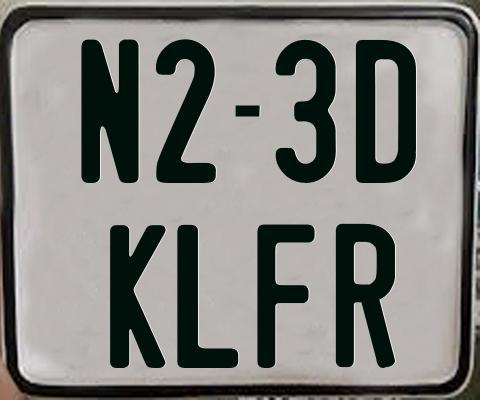2: (154, 36, 217, 180)
3: (275, 37, 342, 185)
D: (356, 38, 416, 183)
F: (255, 224, 314, 369)
K: (107, 222, 169, 368)
L: (177, 222, 240, 367)
N: (80, 36, 143, 181)
R: (335, 221, 397, 368)
